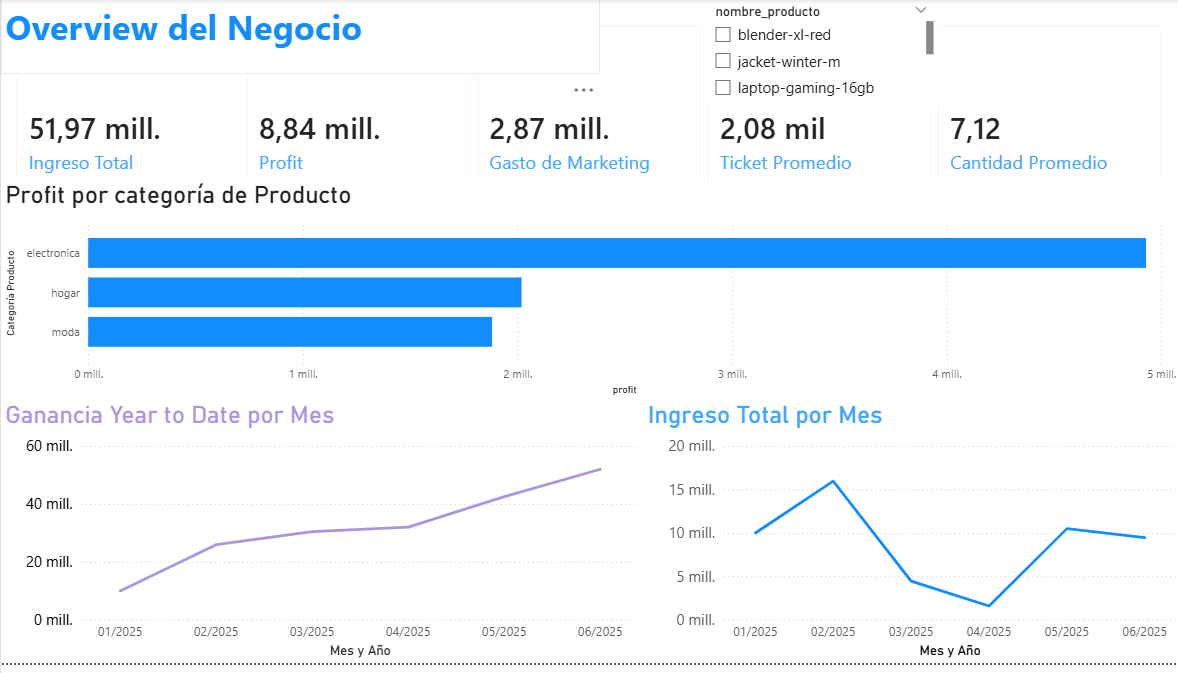

Layout of this report page (visuals, bound fields, positions):
{"tool":"powerbi","page":{"name":"Overview","canvas":[1280,720],"ordinal":0},"visuals":[{"type":"cardVisual","fields":{"Data":["orders_clean.ingreso_total","orders_clean.profit","marketing_clean.gasto_total_marketing","orders_clean.ticket_promedio","orders_clean.cantidad_promedio"]},"box":[0,12.2,1280.3,280.7],"z":0},{"type":"textbox","box":[0,0,650,81.4],"z":1000},{"type":"lineChart","title":"Ingreso Total por Mes","fields":{"Category":["dim_fecha.AñoMesTexto"],"Y":["orders_clean.ingreso_total"]},"box":[697.1,435.7,582.9,284.3],"z":2000},{"type":"clusteredBarChart","title":"Profit por categoría de Producto","fields":{"Category":["orders_clean.categoria_producto"],"Y":["orders_clean.profit"]},"box":[0,197.1,1280,238.6],"z":3000},{"type":"lineChart","title":"Ganancia Year to Date por Mes","fields":{"Category":["dim_fecha.AñoMesTexto"],"Y":["orders_clean.YTD"]},"box":[0,435.7,697.1,284.3],"z":4000},{"type":"slicer","fields":{"Values":["orders_clean.nombre_producto"]},"box":[762.2,0,255,115.3],"z":5000}]}

Visuals, with their boxes in screenshot pixels (x1, y1, x2, y2), scaled from the page's 1280x720 canvas onto the 1178x673 screenshot:
cardVisual - orders_clean.ingreso_total x orders_clean.profit: select_region(0, 11, 1177, 274)
textbox: select_region(0, 0, 598, 76)
"Ingreso Total por Mes" lineChart: select_region(642, 407, 1177, 672)
"Profit por categoría de Producto" clusteredBarChart: select_region(0, 184, 1177, 407)
"Ganancia Year to Date por Mes" lineChart: select_region(0, 407, 642, 672)
slicer - orders_clean.nombre_producto: select_region(701, 0, 936, 108)
